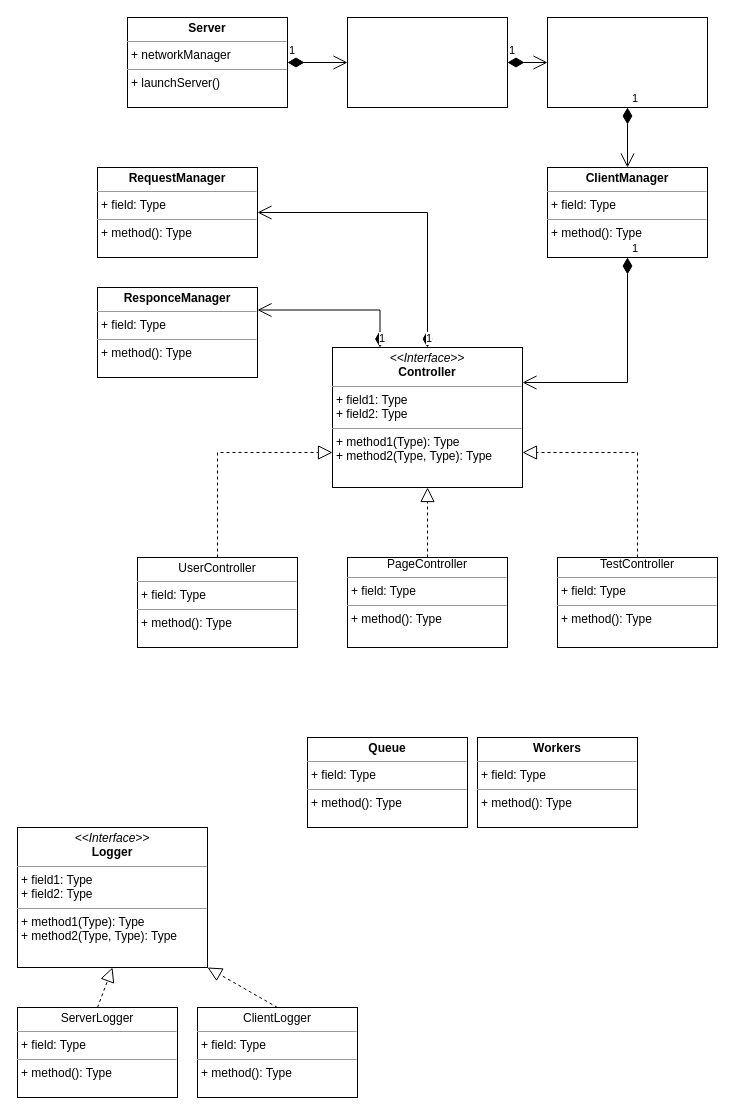
Some shapes in this 735 by 1115 pixel diagram are drawn without their labels. The centre of each missing label's shape, as x and y in pixels:
"Client + field: Type + method(): Type" goes at point (627, 62).
"NetworkManager + field: Type + method(): Type" goes at point (427, 62).
